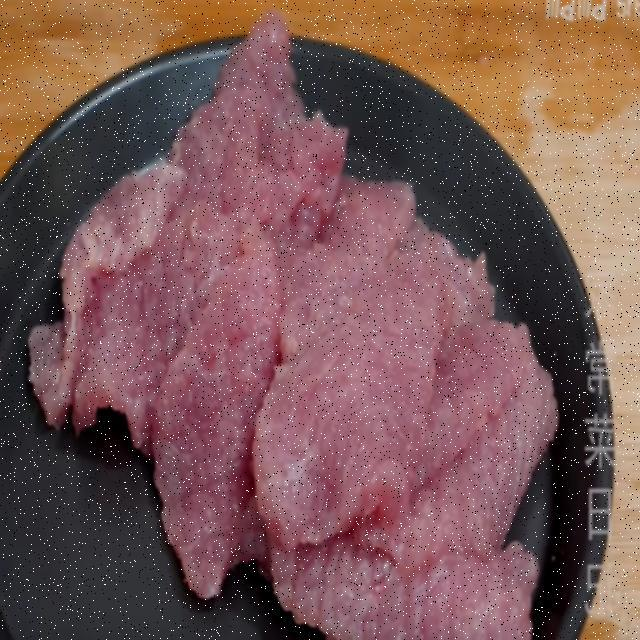pork: (29, 29, 581, 640)
